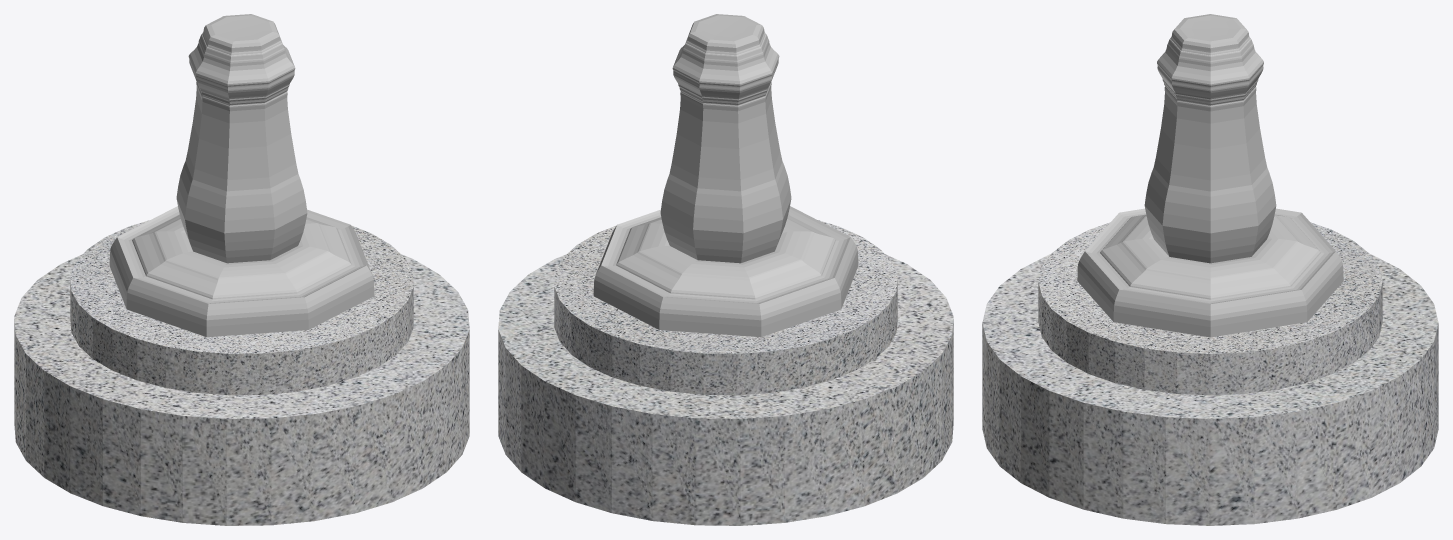
The model's file is eagle-joined.fbx.
3 renders of one model, left to right at view 1: azimuth 30°, elevation 25°; view 2: azimuth 150°, elevation 25°; view 3: azimuth 270°, elevation 25°, orthographic.
Parts seen in each view (by area): view 1: Cube; view 2: Cube; view 3: Cube.
Boxes of the visible parts, x1=… form: Cube: x1=14, y1=14, x2=469, y2=525; Cube: x1=498, y1=14, x2=953, y2=525; Cube: x1=982, y1=14, x2=1438, y2=525.
Bounding box in the file's own units: 345 × 335 × 345.
